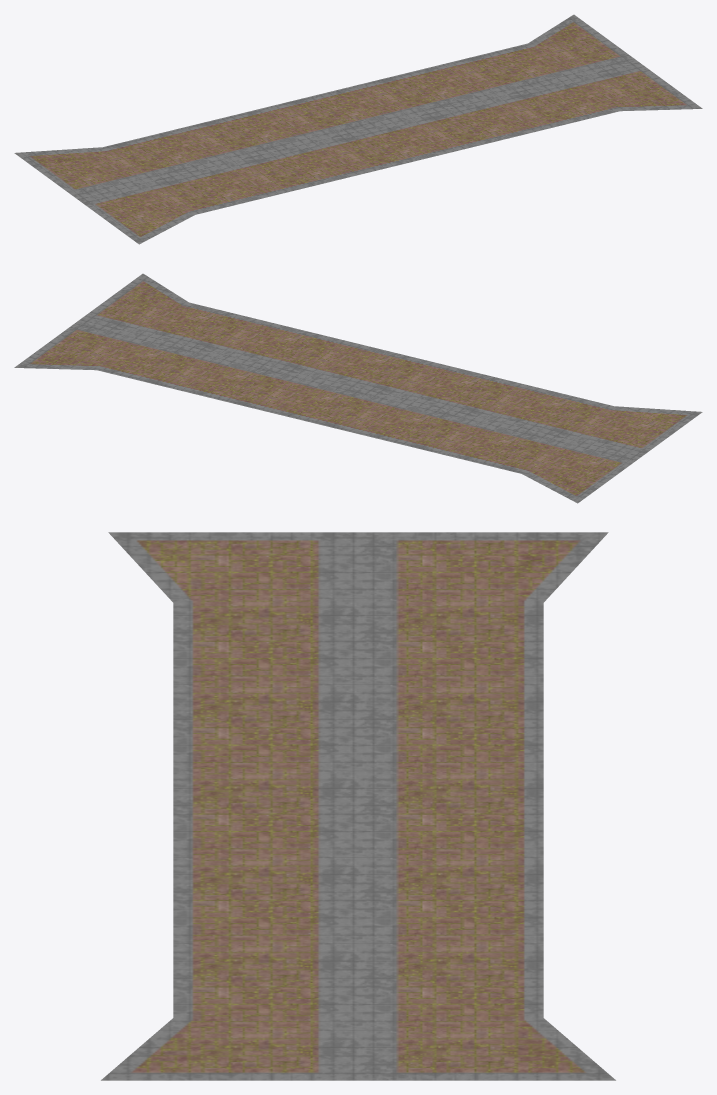
File: CourtyardGround2.fbx
3 renders of one model, top to bottom at view 1: azimuth 30°, elevation 25°; view 2: azimuth 150°, elevation 25°; view 3: azimuth 270°, elevation 25°, orthographic. The views are drawn at different scales.
Parts seen in each view (by area): view 1: Courtyard_Ground_; view 2: Courtyard_Ground_; view 3: Courtyard_Ground_.
Boxes of the visible parts, x1,y1,x2,y2 form: Courtyard_Ground_: [14, 14, 702, 244]; Courtyard_Ground_: [14, 273, 702, 503]; Courtyard_Ground_: [101, 532, 615, 1080].
Size of the model in its own units: 4909 by 0.000383 by 1953.
